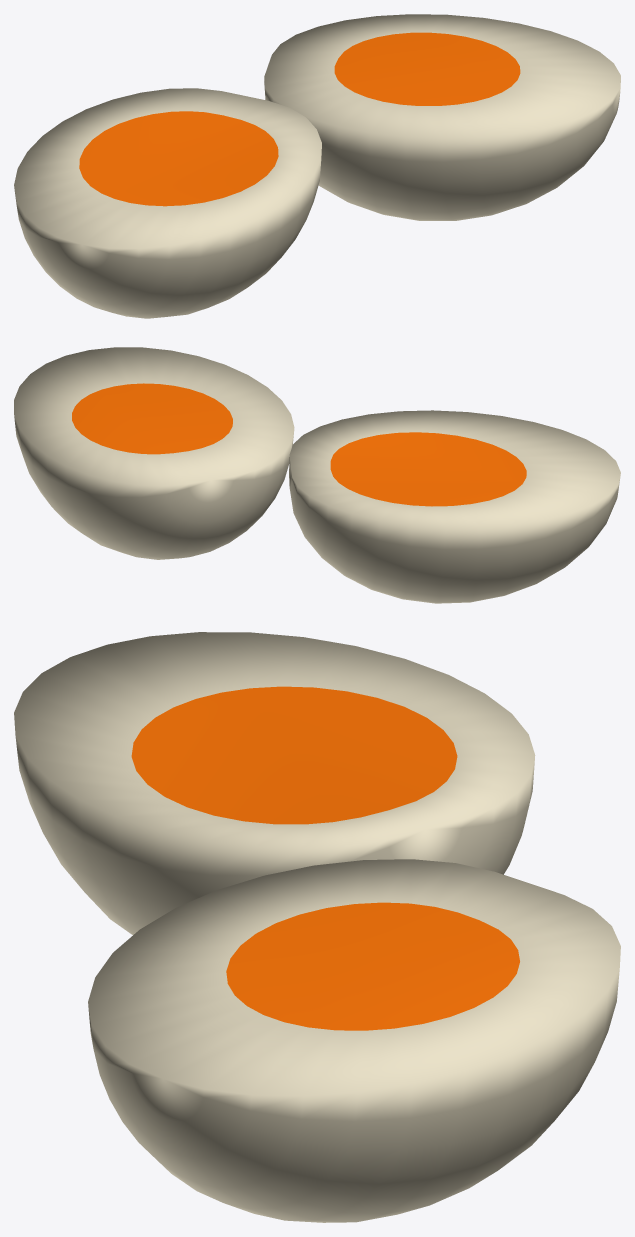
The model's file is cutEgg.fbx.
3 views of the same model, one above another, from view 1: azimuth 30°, elevation 25°; view 2: azimuth 150°, elevation 25°; view 3: azimuth 270°, elevation 25° (orthographic). The views are drawn at different scales.
Parts seen in each view (by area): view 1: Sphere.002; view 2: Sphere.002; view 3: Sphere.002.
Part boxes in pixels (bbox=[...]): Sphere.002: bbox=[14, 14, 620, 318]; Sphere.002: bbox=[14, 347, 620, 603]; Sphere.002: bbox=[14, 632, 620, 1222].
Bounding box in the file's own units: 520 × 116 × 279.
